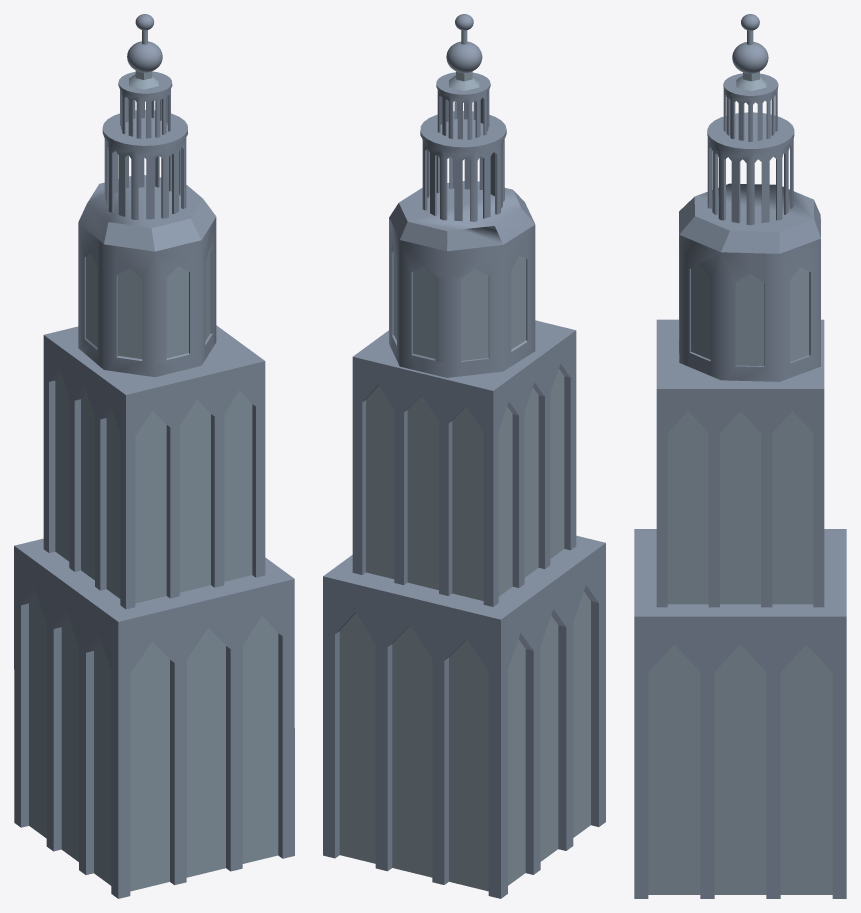
The model's file is GroningenTower 1.fbx.
The picture shows the model from 3 angles, left to right: view 1: azimuth 30°, elevation 25°; view 2: azimuth 150°, elevation 25°; view 3: azimuth 270°, elevation 25°; orthographic projection.
Visible parts, largest first — view 1: Tower; view 2: Tower; view 3: Tower.
Boxes of the visible parts, <box> form: Tower: <box>14,14,294,898</box>; Tower: <box>323,14,605,898</box>; Tower: <box>634,14,846,898</box>.
Size of the model in its own units: 735 by 3271 by 752.
